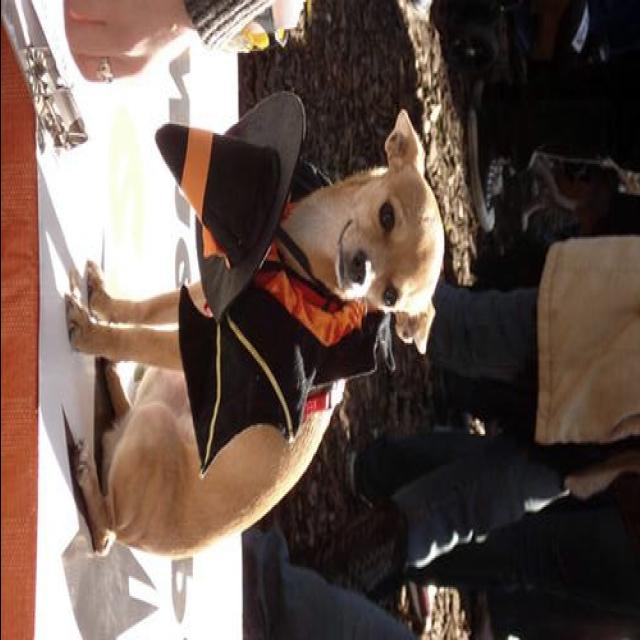chihuahua: (54, 111, 442, 574)
